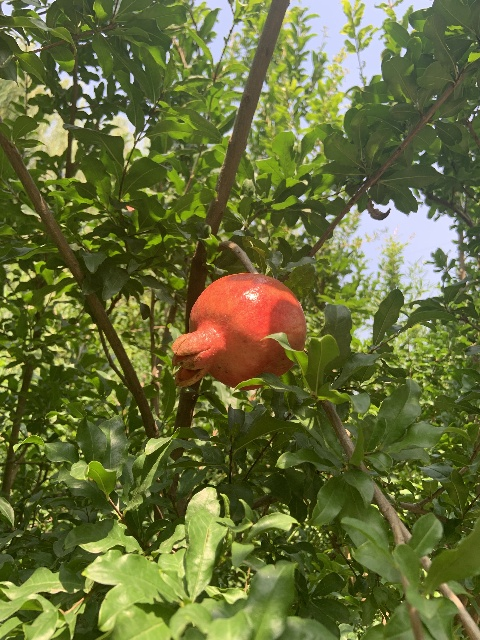ripe: (171, 272, 306, 390)
